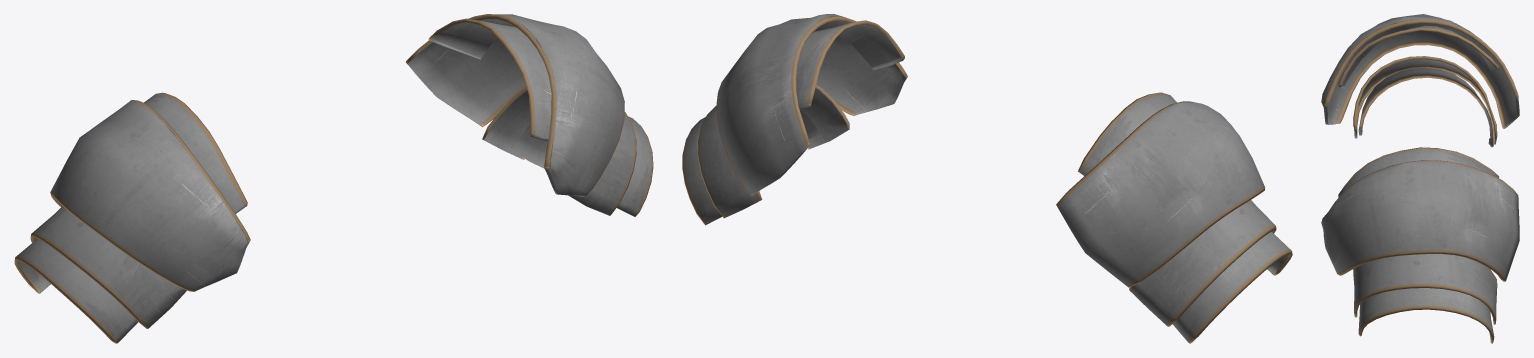
The model's file is swan_knight_pauldrons_b2.fbx.
3 views of the same model, side by side, from view 1: azimuth 30°, elevation 25°; view 2: azimuth 150°, elevation 25°; view 3: azimuth 270°, elevation 25° (orthographic). The views are drawn at different scales.
Parts seen in each view (by area): view 1: swan_knight_pauldrons_b2; view 2: swan_knight_pauldrons_b2; view 3: swan_knight_pauldrons_b2.
Boxes of the visible parts, x1,y1,x2,y2 form: swan_knight_pauldrons_b2: (14, 14, 653, 343); swan_knight_pauldrons_b2: (682, 14, 1292, 343); swan_knight_pauldrons_b2: (1321, 14, 1519, 343).
Bounding box in the file's own units: 0.6735 × 0.2425 × 0.2127.
Materials: 1 (1 with a texture image).
